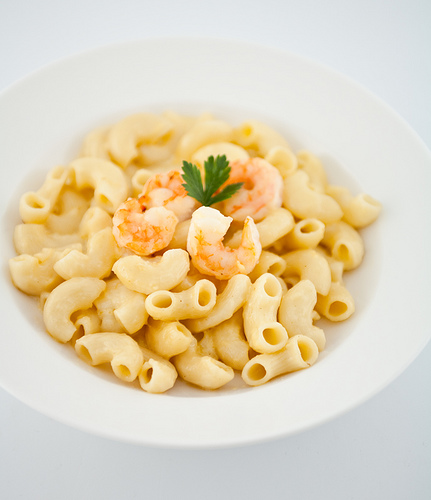macncheese: (10, 108, 379, 392)
